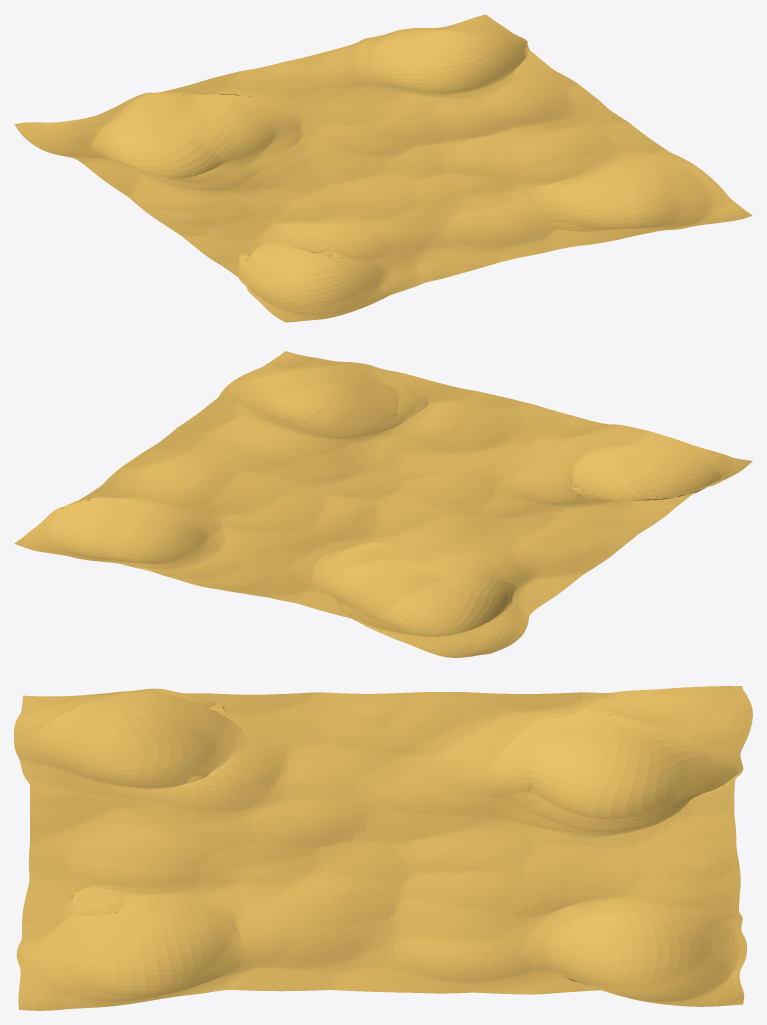
File: wusteBoden.fbx
3 views of the same model, one above another, from view 1: azimuth 30°, elevation 25°; view 2: azimuth 150°, elevation 25°; view 3: azimuth 270°, elevation 25° (orthographic). The views are drawn at different scales.
Visible parts, largest first — view 1: Plane; view 2: Plane; view 3: Plane.
Boxes of the visible parts, bbox=[...] form: Plane: bbox=[14, 14, 752, 322]; Plane: bbox=[14, 351, 752, 657]; Plane: bbox=[14, 686, 752, 1010].
Size of the model in its own units: 244 by 19.58 by 243.
